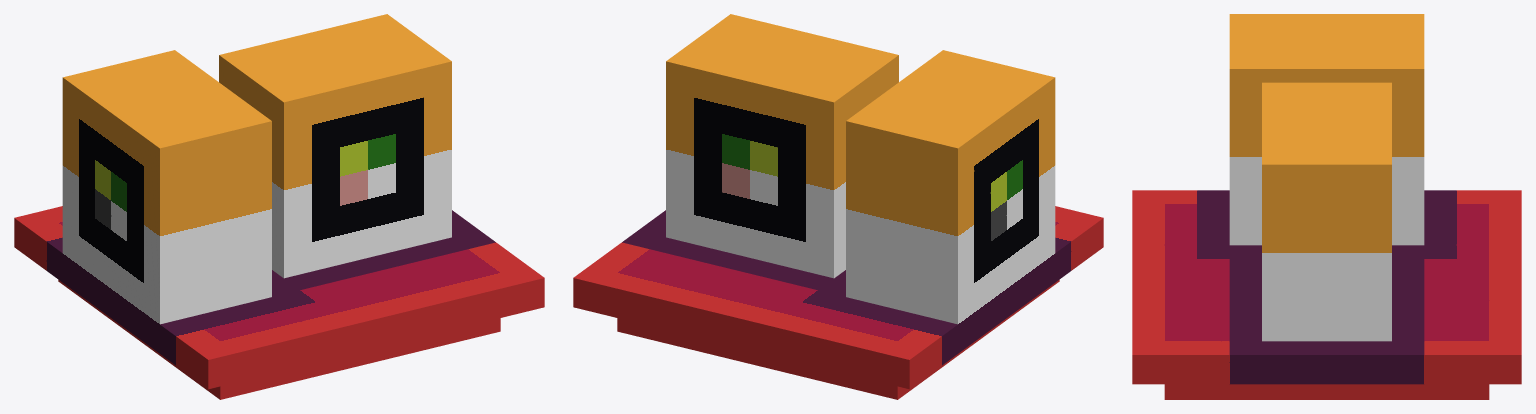
Rendered from SushiBad1.fbx.
The picture shows the model from 3 angles, left to right: view 1: azimuth 30°, elevation 25°; view 2: azimuth 150°, elevation 25°; view 3: azimuth 270°, elevation 25°; orthographic projection.
Visible parts, largest first — view 1: SushiBad1; view 2: SushiBad1; view 3: SushiBad1.
Boxes of the visible parts, x1,y1,x2,y2 form: SushiBad1: [14, 14, 544, 399]; SushiBad1: [573, 14, 1103, 399]; SushiBad1: [1132, 14, 1521, 399].
Bounding box in the file's own units: 1.18 × 0.7893 × 1.18.
